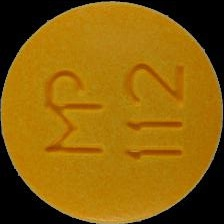60429-697: (0, 0, 224, 224)
